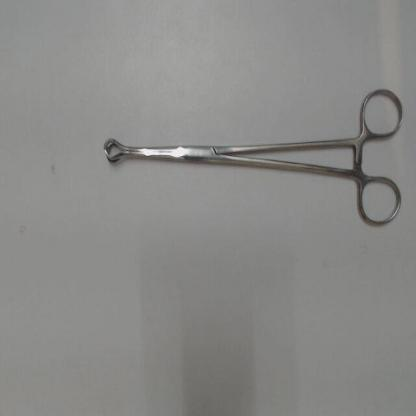8 Babcock Tissue Forceps: (96, 78, 406, 233)
